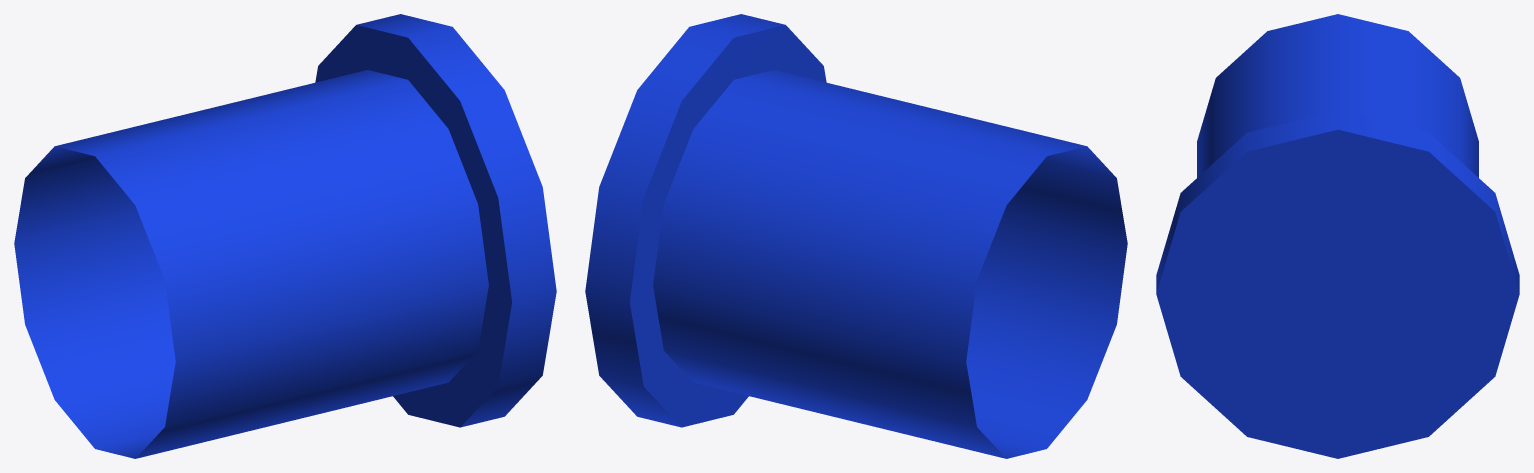
Rendered from pipe5.fbx.
3 renders of one model, left to right at view 1: azimuth 30°, elevation 25°; view 2: azimuth 150°, elevation 25°; view 3: azimuth 270°, elevation 25°, orthographic. The views are drawn at different scales.
Parts seen in each view (by area): view 1: 1.003; view 2: 1.003; view 3: 1.003.
Part boxes in pixels (box(x1,y1,x2,y2)): 1.003: box(14, 14, 556, 458); 1.003: box(585, 14, 1127, 458); 1.003: box(1156, 14, 1519, 458).
Bounding box in the file's own units: 1810 × 1823 × 1823.
